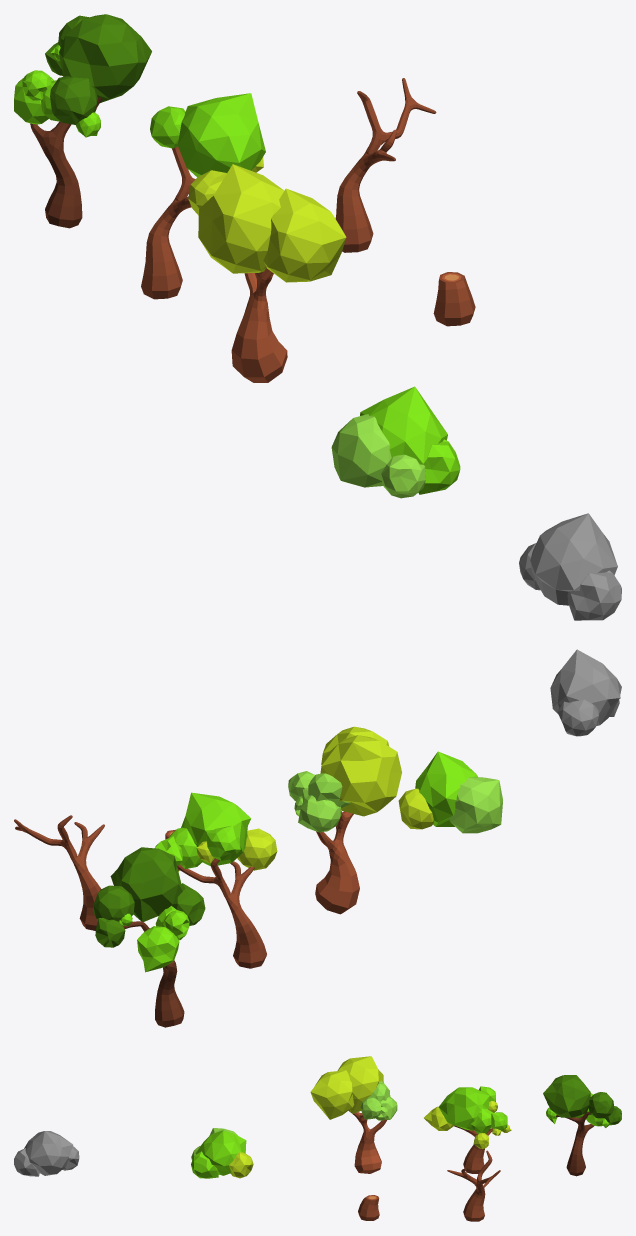
File: atriumassets.fbx
3 views of the same model, one above another, from view 1: azimuth 30°, elevation 25°; view 2: azimuth 150°, elevation 25°; view 3: azimuth 270°, elevation 25° (orthographic). The views are drawn at different scales.
Visible parts, largest first — view 1: Icosphere.025, Icosphere.002, Icosphere.020, Icosphere.011, Icosphere.030, Cube.003, Cube.002, Icosphere.023, Icosphere.026, Cube, Cube.001, Icosphere.032 (+7 smaller); view 2: Icosphere.025, Icosphere.011, Icosphere.030, Cube.002, Cube, Icosphere.023, Icosphere.002, Icosphere.026, Cube.003, Cube.001, Icosphere.013, Icosphere.024 (+10 smaller); view 3: Icosphere.011, Icosphere.020, Icosphere.030, Icosphere.002, Icosphere.025, Icosphere.023, Cube.002, Cube.003, Cube.001, Cube, Icosphere.016, Icosphere.028 (+8 smaller).
Part boxes in pixels (box(x1,y1,x2,y2)): Icosphere.025: box(198, 164, 284, 273); Icosphere.002: box(177, 93, 265, 177); Icosphere.020: box(263, 188, 346, 282); Icosphere.011: box(59, 14, 151, 102); Icosphere.030: box(530, 513, 617, 605); Cube.003: box(335, 78, 436, 252); Cube.002: box(231, 268, 287, 382); Icosphere.023: box(360, 386, 447, 464); Icosphere.026: box(331, 414, 391, 487); Cube: box(141, 146, 195, 299); Cube.001: box(30, 97, 102, 228); Icosphere.032: box(567, 570, 621, 620); Icosphere.025: box(320, 735, 401, 816); Icosphere.011: box(110, 847, 182, 921); Icosphere.030: box(550, 649, 621, 725); Cube.002: box(315, 811, 359, 914); Cube: box(177, 858, 266, 968); Icosphere.023: box(415, 751, 477, 826); Icosphere.002: box(181, 792, 250, 865); Icosphere.026: box(448, 777, 502, 833); Cube.003: box(14, 815, 104, 930); Cube.001: box(123, 921, 184, 1027); Icosphere.013: box(137, 926, 179, 972); Icosphere.024: box(298, 789, 341, 832); Icosphere.011: box(543, 1075, 590, 1117); Icosphere.020: box(310, 1070, 354, 1119); Icosphere.030: box(24, 1131, 73, 1175); Icosphere.002: box(439, 1087, 489, 1130); Icosphere.025: box(337, 1056, 383, 1113); Icosphere.023: box(195, 1130, 246, 1175); Cube.002: box(348, 1110, 387, 1173); Cube.003: box(447, 1150, 500, 1221); Cube.001: box(556, 1111, 594, 1176); Cube: box(454, 1125, 492, 1173); Icosphere.016: box(588, 1092, 613, 1118); Icosphere.028: box(191, 1151, 218, 1178).
Size of the model in its own units: 2577 by 1536 by 7509.
